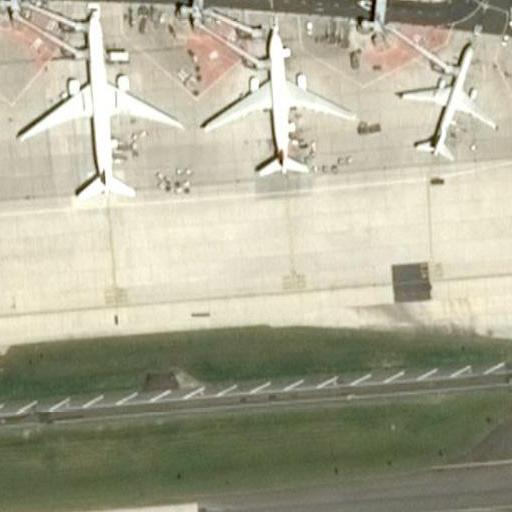Aircraft: (20, 7, 182, 200), (203, 21, 362, 177), (394, 32, 499, 167)
